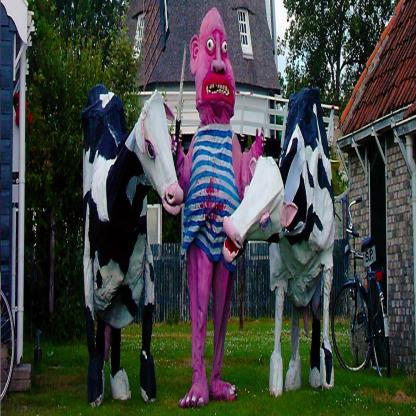cow: (223, 86, 335, 398), (81, 91, 184, 408)
